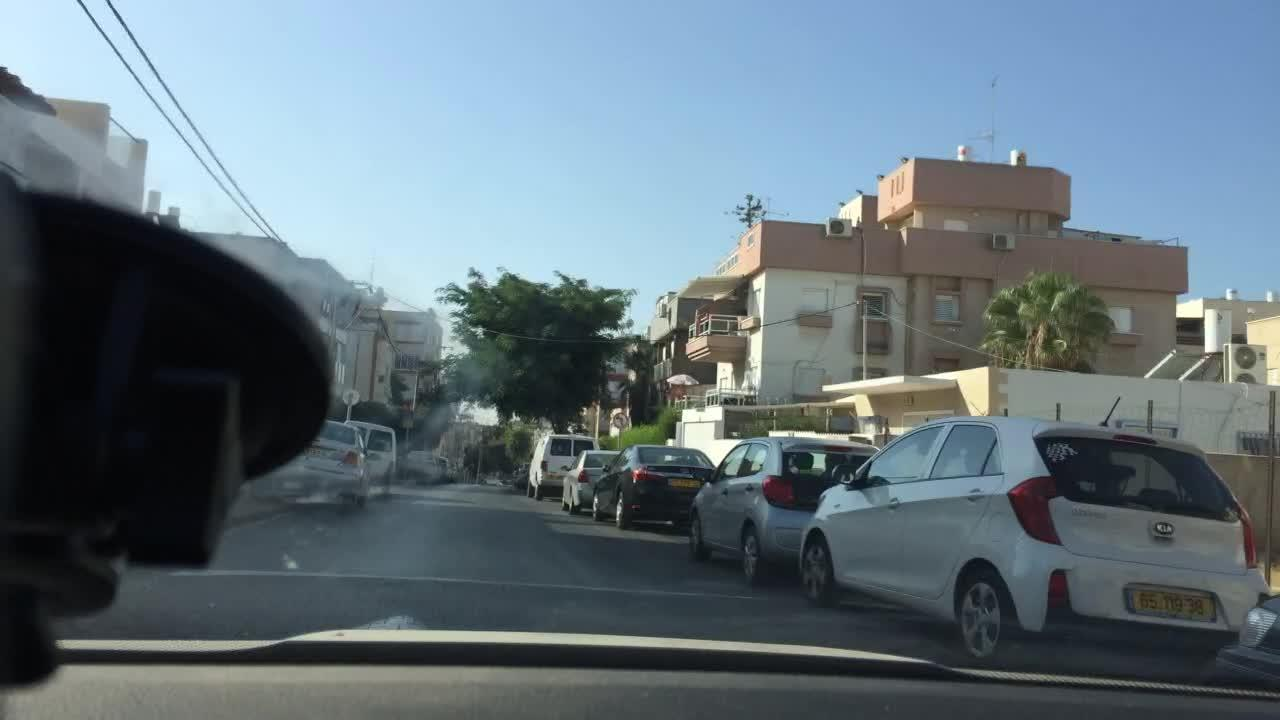kia: (1157, 518, 1174, 535)
